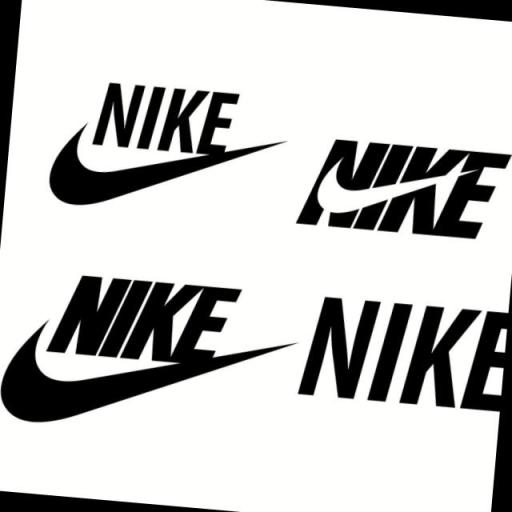Nike: (296, 290, 508, 416), (47, 142, 232, 220)
